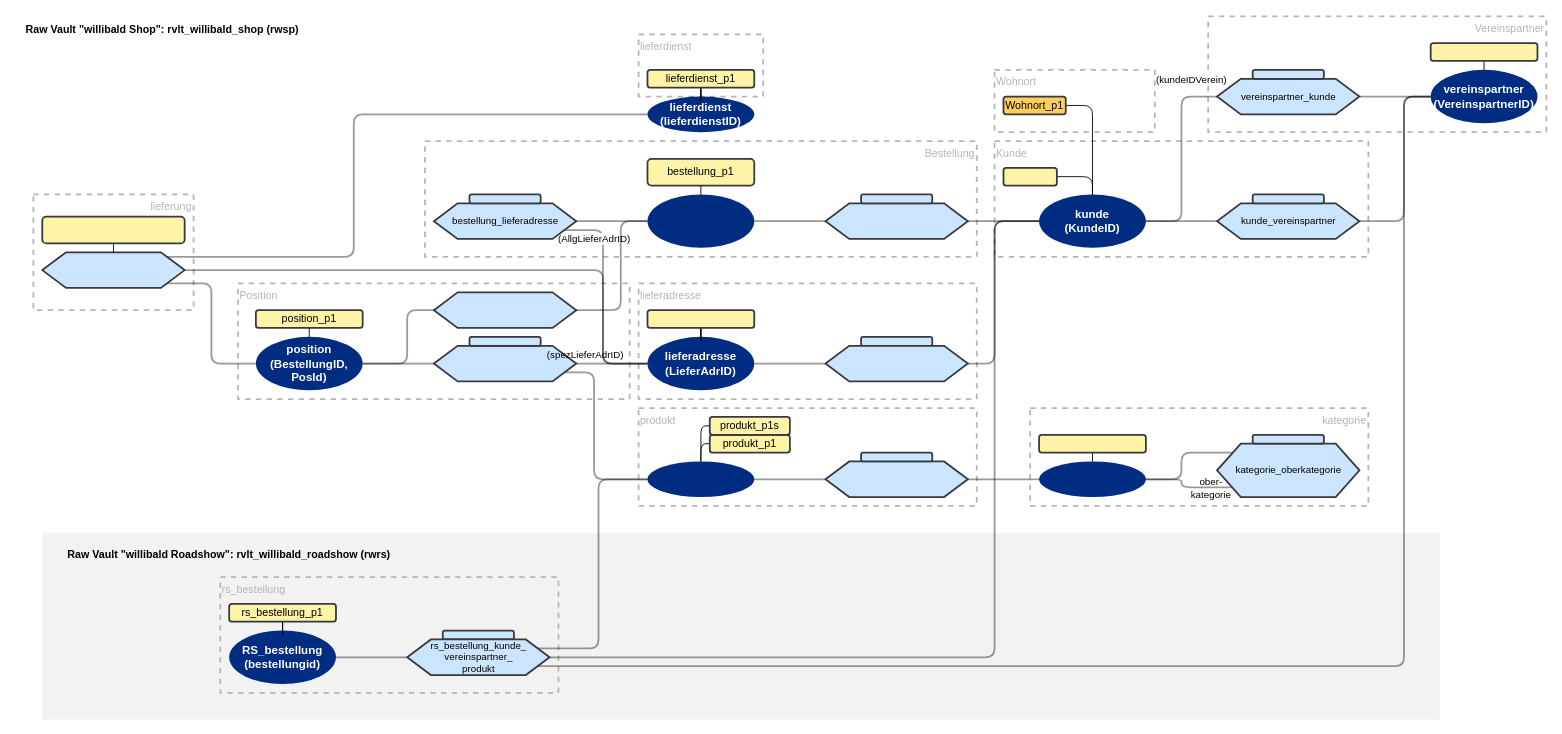
This 1562x734 diagram has some shape labels left out. The shapes that lost their labels are listed below. From the top down, each one's centre as x and y in pixels, then its label:
[1483,51]: Vereinspartner_p1
[1029,176]: kunde_p1
[113,229]: position_lieferadresse_ lieferdienst_lieferung_p1
[700,220]: bestellung (BestellungID)
[896,220]: bestellung_kunde
[113,269]: position_lieferadresse_ lieferdienst
[505,309]: position_bestellung
[700,318]: lieferadresse_p1
[505,363]: position_produkt_ lieferadresse
[896,363]: lieferadresse_kunde
[1092,443]: kategorie_p1
[700,479]: produkt (produktID)
[896,479]: produkt_kategorie
[1092,479]: kategorie (KatID)
